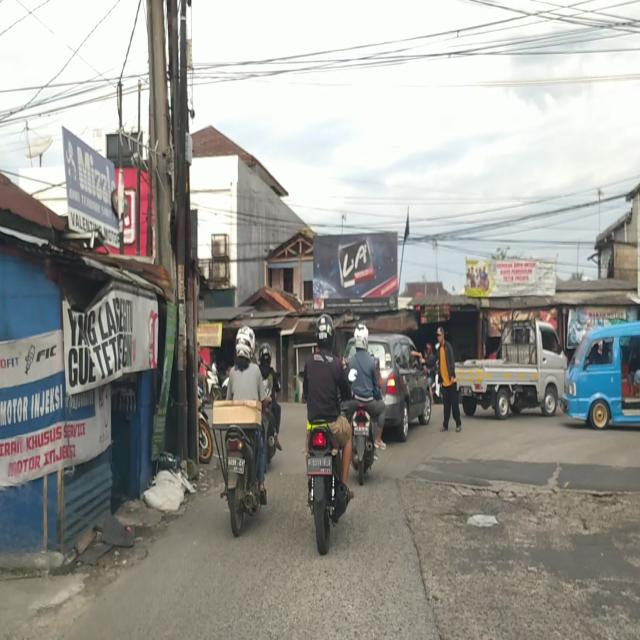Drain Hole: (444, 480, 626, 537)
